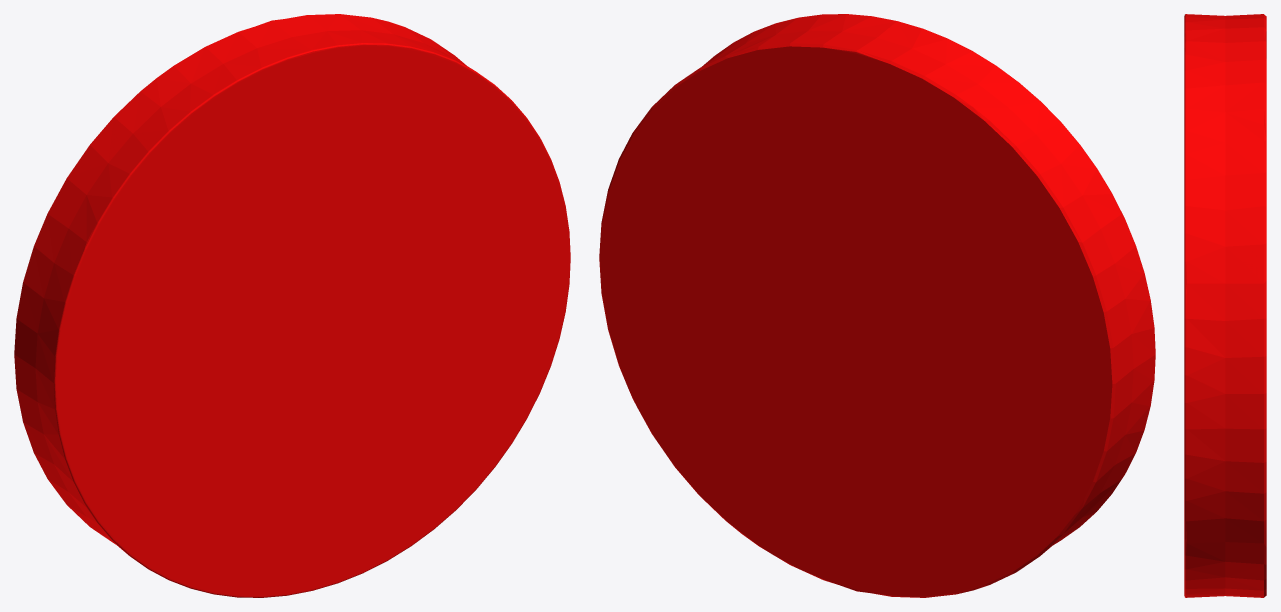
3 renders of one model, left to right at view 1: azimuth 30°, elevation 25°; view 2: azimuth 150°, elevation 25°; view 3: azimuth 270°, elevation 25°, orthographic. The views are drawn at different scales.
Visible parts, largest first — view 1: A0509_1_0; view 2: A0509_1_0; view 3: A0509_1_0.
Part boxes in pixels (x1,y1,x2,y2): A0509_1_0: (14,14,570,597); A0509_1_0: (599,14,1155,597); A0509_1_0: (1184,14,1266,597).
Size of the model in its own units: 117 by 16.49 by 117.
